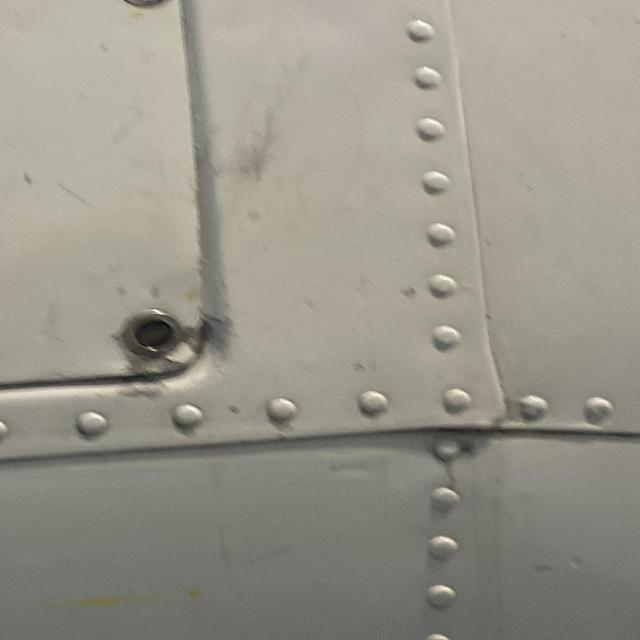Paint-off: (567, 556, 585, 574)
